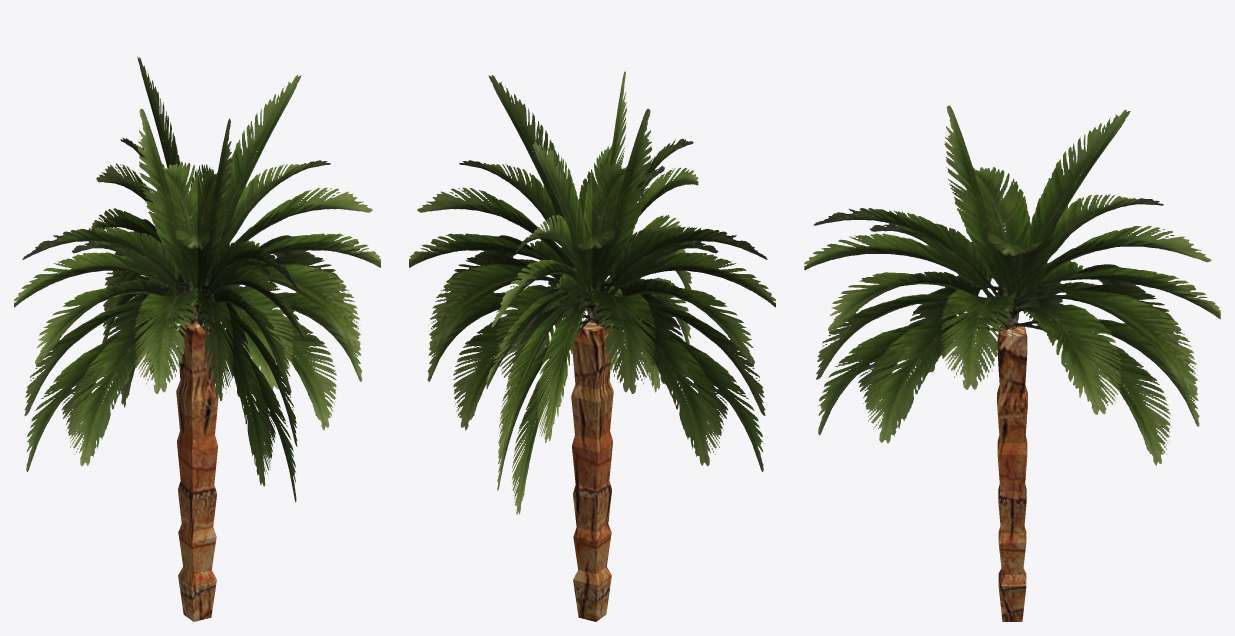
Rendered from Palmtree.fbx.
The picture shows the model from 3 angles, left to right: view 1: azimuth 30°, elevation 25°; view 2: azimuth 150°, elevation 25°; view 3: azimuth 270°, elevation 25°; orthographic projection.
Visible parts, largest first — view 1: Palmtreeleaves, Palmtreeleaves.001, tree; view 2: Palmtreeleaves, Palmtreeleaves.001, tree; view 3: Palmtreeleaves.001, tree.
Boxes of the visible parts, x1,y1,x2,y2 form: Palmtreeleaves: (14,75,380,471); Palmtreeleaves.001: (91,56,303,502); tree: (176,321,218,621); Palmtreeleaves: (409,75,775,471); Palmtreeleaves.001: (486,71,698,514); tree: (571,318,613,621); Palmtreeleaves.001: (804,105,1220,465); tree: (997,326,1027,621).
Size of the model in its own units: 1200 by 1639 by 1200.
3 materials, 3 textured.
